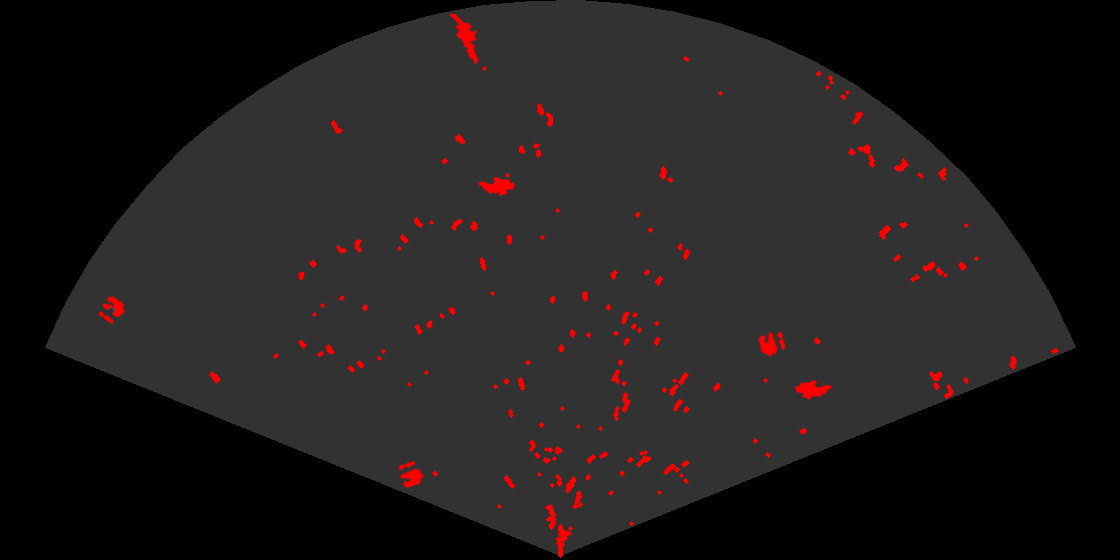AUV: (476, 175, 517, 198), (793, 379, 834, 401)
ball: (97, 295, 127, 325), (757, 330, 787, 358), (397, 459, 425, 489)
frogman: (447, 14, 483, 67)
